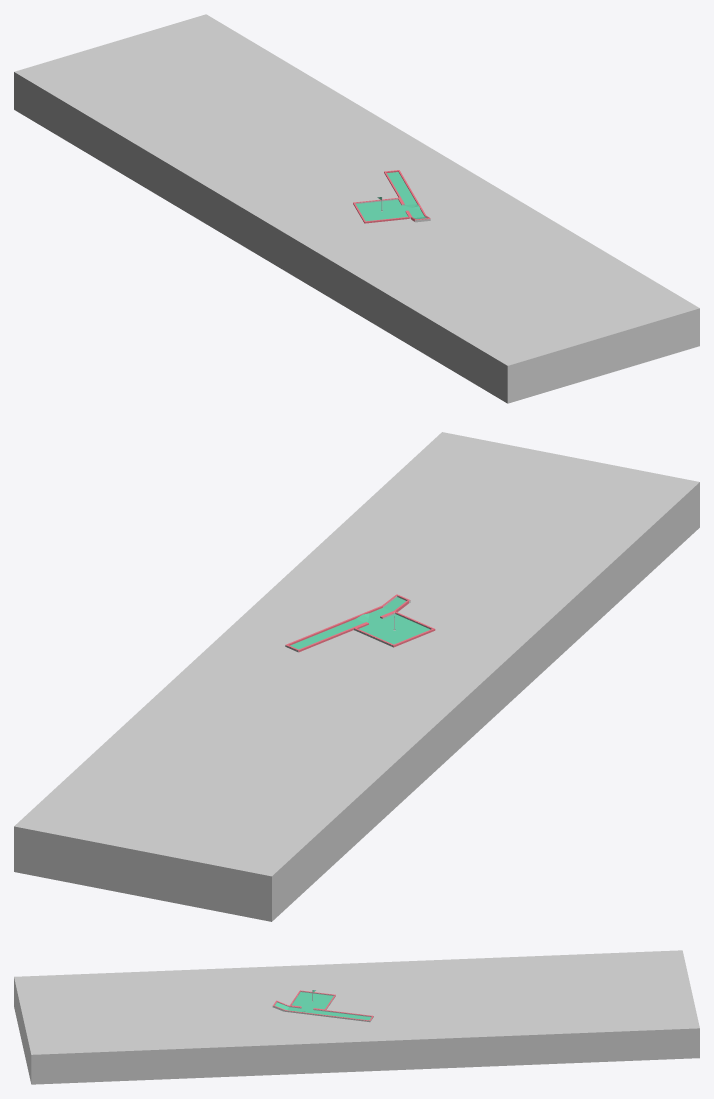
Rendered from Golf_29_04_hole1_only.glb.
The picture shows the model from 3 angles, top to bottom: view 1: azimuth 30°, elevation 25°; view 2: azimuth 150°, elevation 25°; view 3: azimuth 270°, elevation 25°; orthographic projection. The views are drawn at different scales.
Visible parts, largest first — view 1: Cube.038, rampB.002, rampB.001; view 2: Cube.038, rampB.002, rampB.001; view 3: Cube.038, rampB.002, rampB.001.
Part boxes in pixels (bbox=[...]): Cube.038: bbox=[14, 14, 699, 403]; rampB.002: bbox=[356, 172, 426, 221]; rampB.001: bbox=[353, 170, 430, 223]; Cube.038: bbox=[14, 432, 699, 921]; rampB.002: bbox=[290, 597, 430, 649]; rampB.001: bbox=[285, 594, 435, 652]; Cube.038: bbox=[14, 950, 699, 1084]; rampB.002: bbox=[275, 992, 371, 1020]; rampB.001: bbox=[273, 990, 373, 1020].
Size of what is drawn, in the model's own units: 37.81 by 6.96 by 105.
